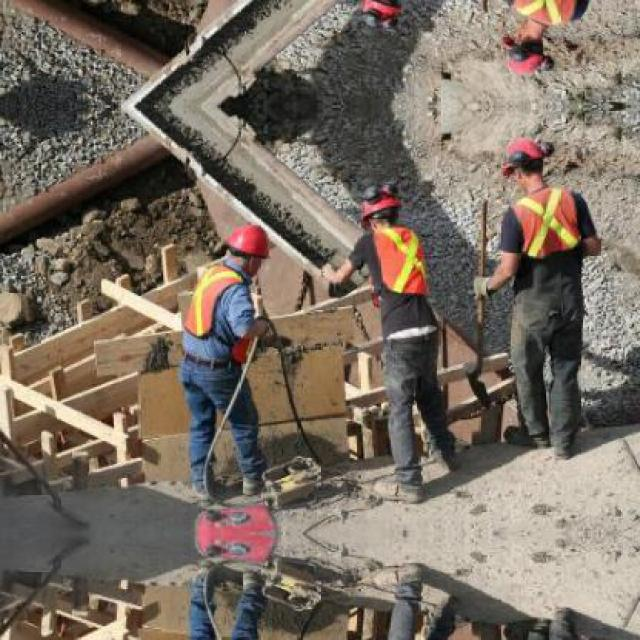Reflective-Jacket: (492, 182, 602, 284), (175, 258, 258, 366), (362, 224, 440, 310), (483, 0, 599, 43)
Safety-Helmet: (489, 130, 558, 182), (220, 219, 277, 265), (352, 184, 408, 225)
